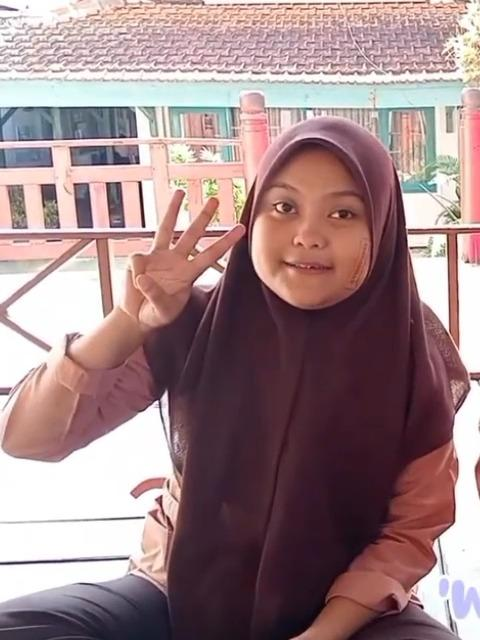W: (117, 186, 249, 328)
